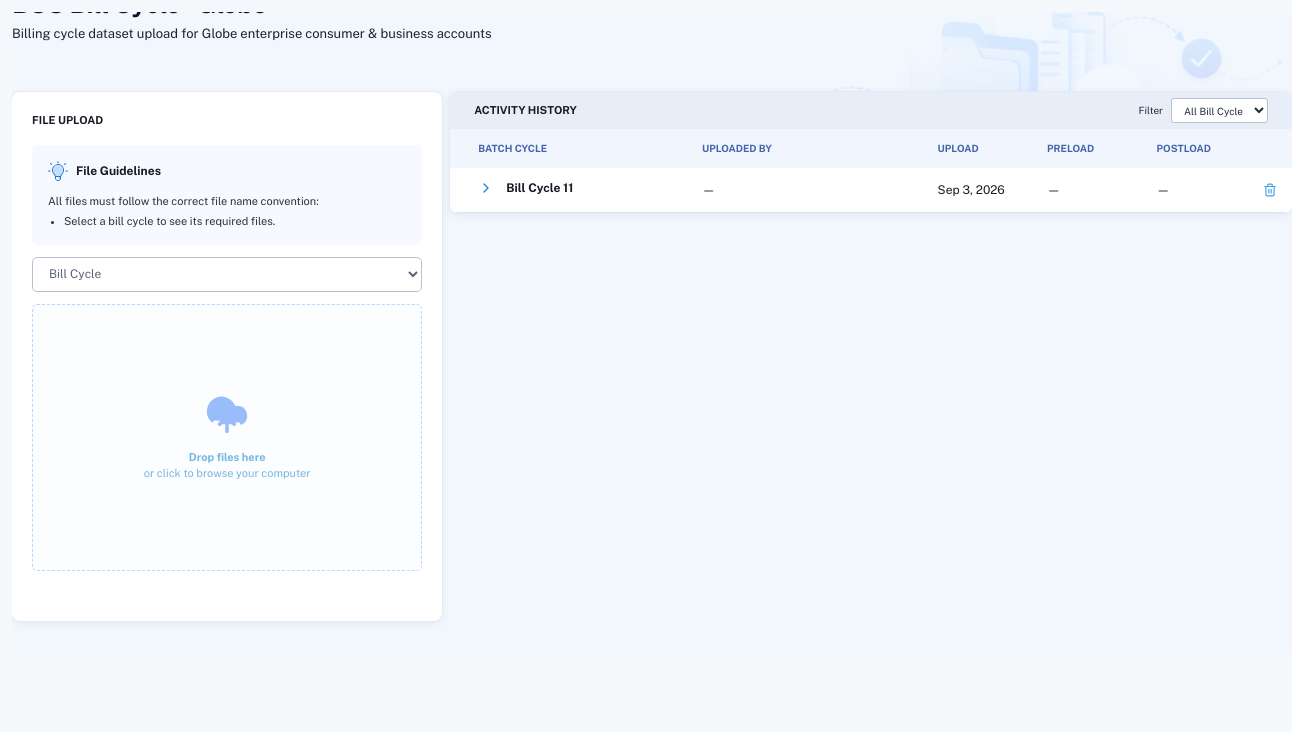
Scenario: BillCycleWorkspace › renders API-derived bill-cycle history and reveals selected-cycle file guidance
The width and height of the screenshot is (1292, 732).
Select "Bill Cycle 11" in the dropdown with id "bill-cycle-upload" at (227, 274), box [32,256,422,292]
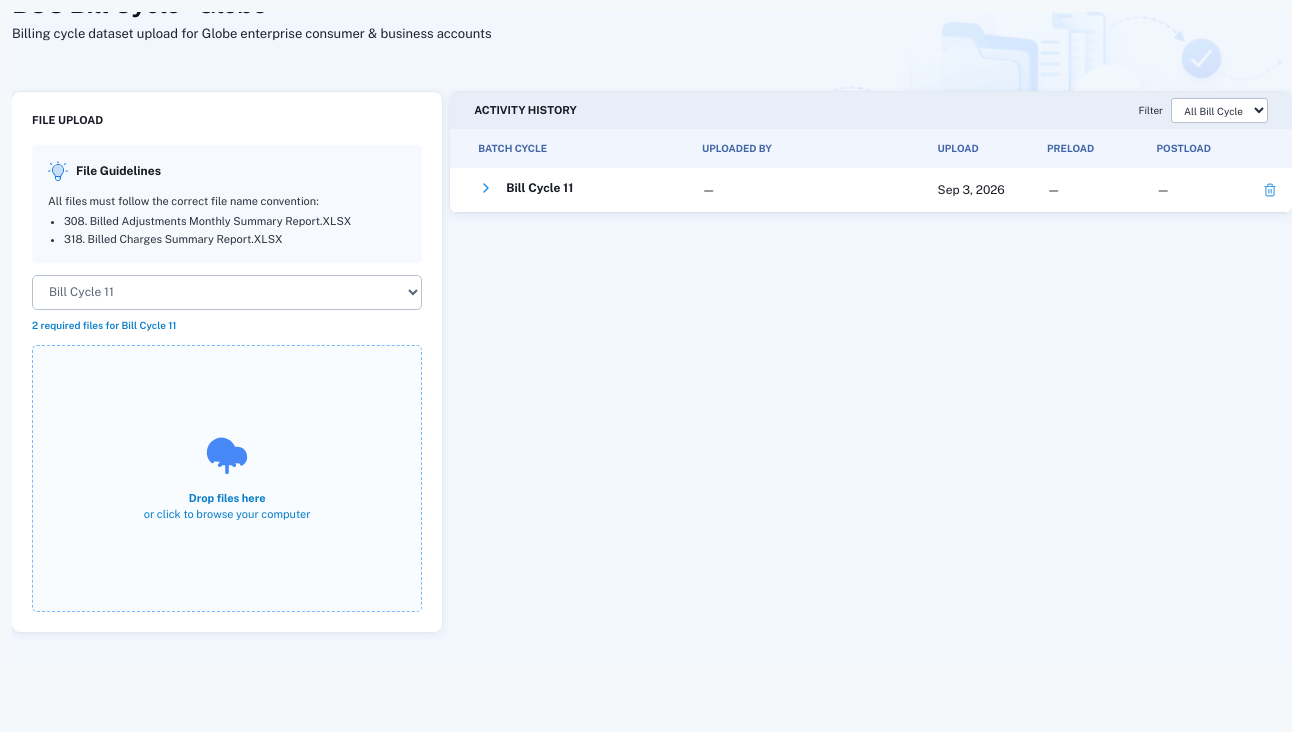
Expected: the text "308. Billed Adjustments Monthly Summary Report.XLSX" is shown, [64,214,351,226]
Expected: the text "318. Billed Charges Summary Report.XLSX" is shown, [64,232,282,244]
Click the button "Bill Cycle 11" at (526, 188), box [478,179,573,197]
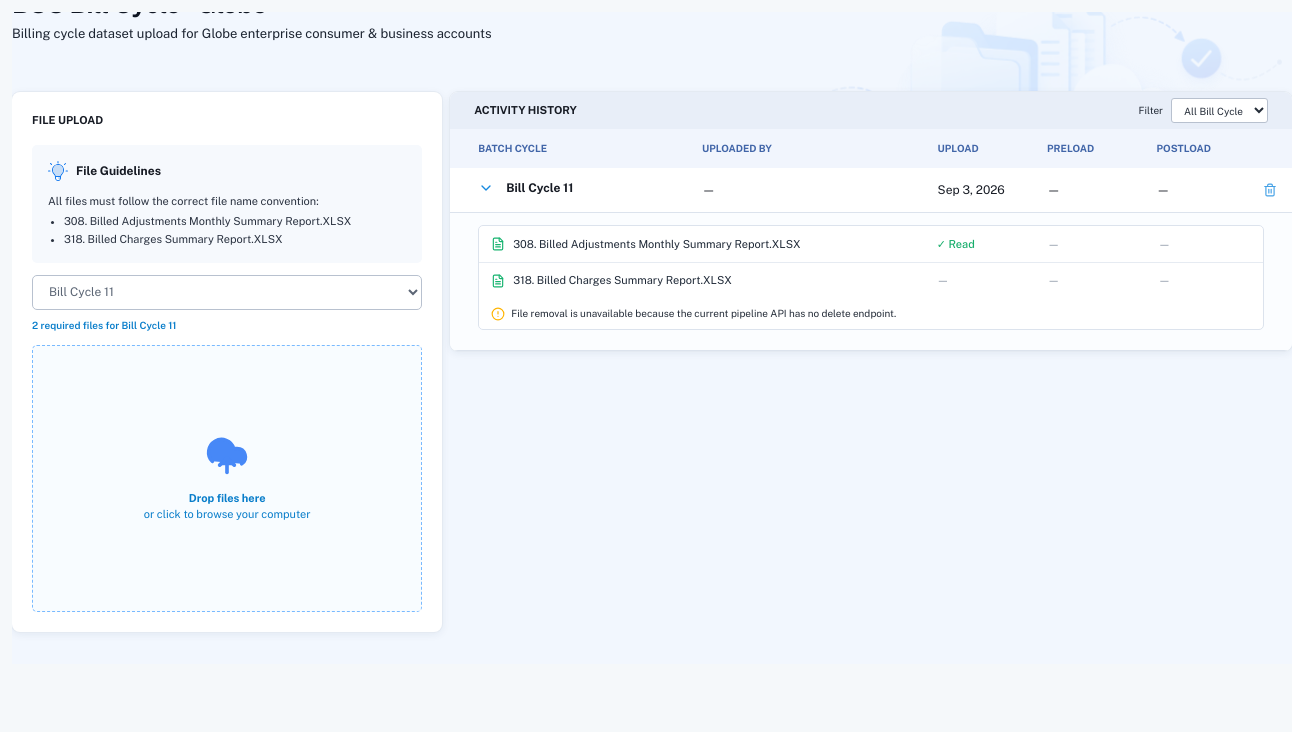
Expected: the text "✓ Read" is shown, [937,238,975,250]
